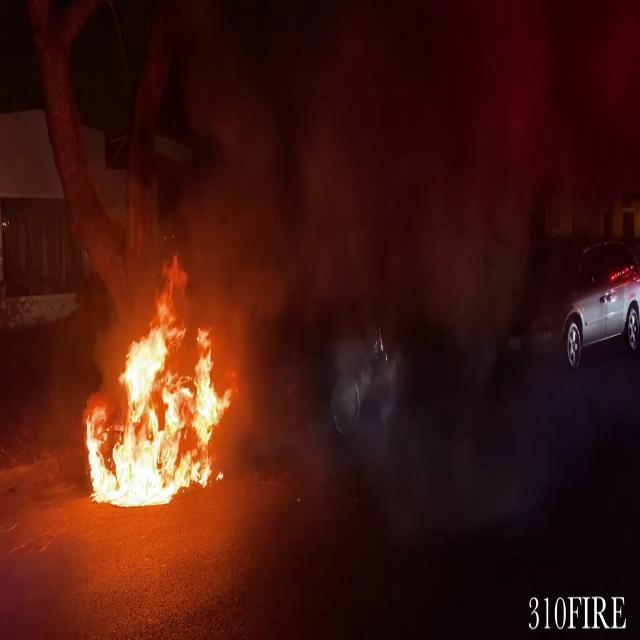Fire: (78, 260, 234, 512)
Smoke: (127, 0, 586, 318)
